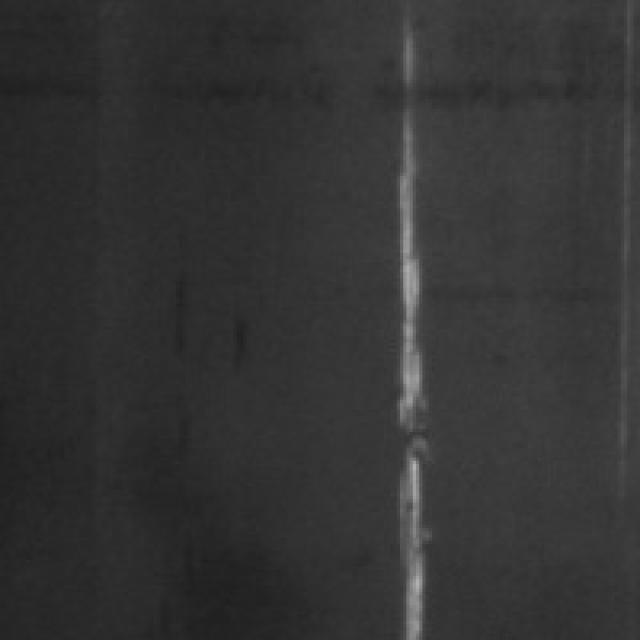scratches: (378, 16, 435, 637)
